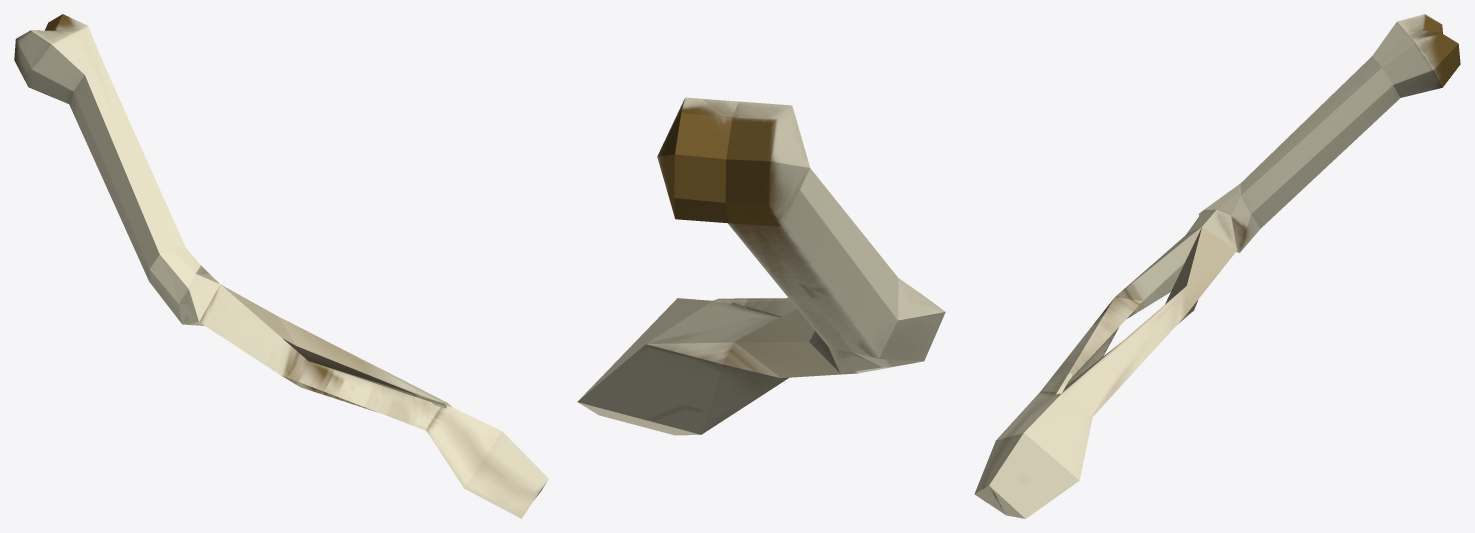
The model's file is rightarm_skele.fbx.
The picture shows the model from 3 angles, left to right: view 1: azimuth 30°, elevation 25°; view 2: azimuth 150°, elevation 25°; view 3: azimuth 270°, elevation 25°; orthographic projection. The views are drawn at different scales.
Visible parts, largest first — view 1: Right_Arm; view 2: Right_Arm; view 3: Right_Arm.
Part boxes in pixels (box(x1,y1,x2,y2)): Right_Arm: box(14, 14, 548, 518); Right_Arm: box(577, 97, 945, 435); Right_Arm: box(974, 14, 1460, 518).
Bounding box in the file's own units: 281 × 340 × 400.
